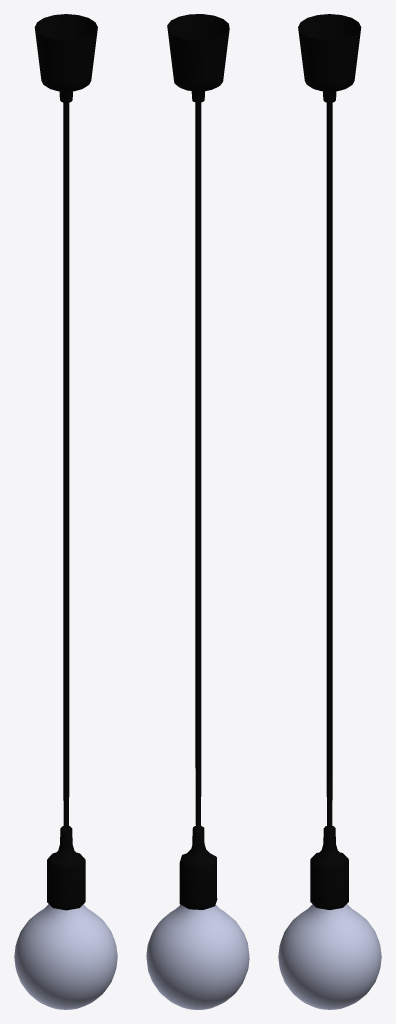
File: SM_Pendantlight_005_A.FBX
3 renders of one model, left to right at view 1: azimuth 90°, elevation 25°; view 2: azimuth 150°, elevation 25°; view 3: azimuth 270°, elevation 25°, orthographic.
Visible parts, largest first — view 1: SM_Pendantlight_005_A; view 2: SM_Pendantlight_005_A; view 3: SM_Pendantlight_005_A.
Boxes of the visible parts, x1,y1,x2,y2 form: SM_Pendantlight_005_A: (14,14,117,1009); SM_Pendantlight_005_A: (146,14,249,1009); SM_Pendantlight_005_A: (278,14,381,1009).
Bounding box in the file's own units: 9.5 × 9.5 × 99.13.
